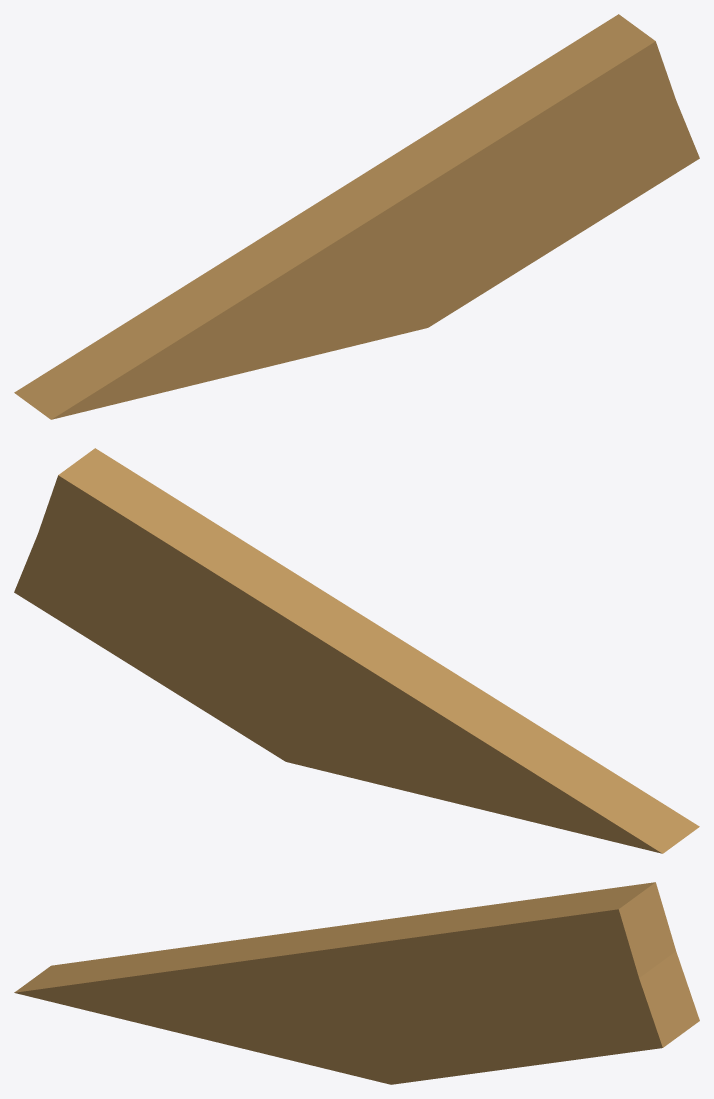
The picture shows the model from 3 angles, top to bottom: view 1: azimuth 30°, elevation 25°; view 2: azimuth 150°, elevation 25°; view 3: azimuth 330°, elevation 25°; orthographic projection.
Parts seen in each view (by area): view 1: L4-6-S3-3DC-M05; view 2: L4-6-S3-3DC-M05; view 3: L4-6-S3-3DC-M05.
Part boxes in pixels (left/top/right/bottom): L4-6-S3-3DC-M05: left=14, top=14, right=699, bottom=419; L4-6-S3-3DC-M05: left=14, top=448, right=699, bottom=853; L4-6-S3-3DC-M05: left=14, top=882, right=699, bottom=1084.
Size of the model in its own units: 0.4546 by 0.1547 by 0.045.
